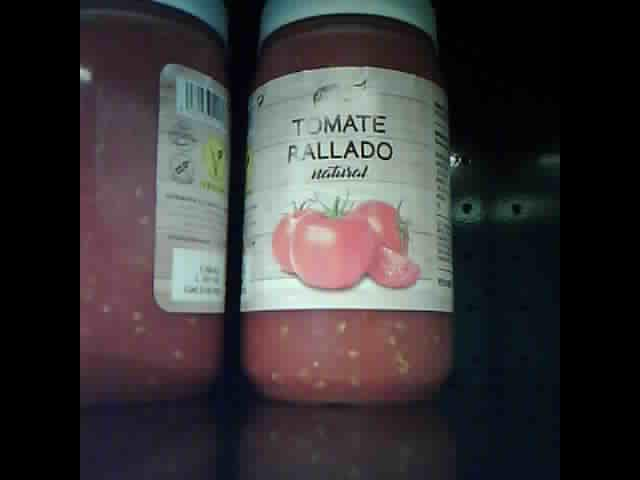tomate: (239, 5, 449, 404), (79, 4, 234, 412)
